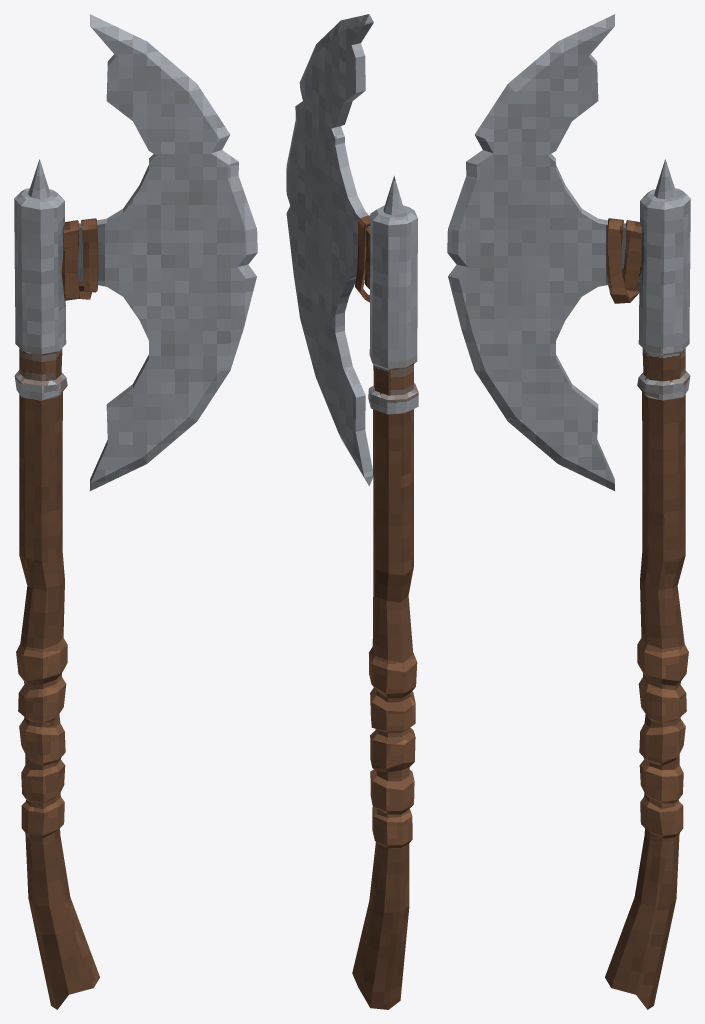
The model's file is axe.glb.
The picture shows the model from 3 angles, left to right: view 1: azimuth 90°, elevation 25°; view 2: azimuth 210°, elevation 25°; view 3: azimuth 270°, elevation 25°; orthographic projection.
Parts seen in each view (by area): view 1: Axe; view 2: Axe; view 3: Axe.
Boxes of the visible parts, left/top/right/bottom form: Axe: left=14, top=14, right=257, bottom=1009; Axe: left=286, top=14, right=418, bottom=1009; Axe: left=447, top=14, right=690, bottom=1009.
Bounding box in the file's own units: 0.0401 × 0.85 × 0.1892.
Materials: 1 (1 with a texture image).
